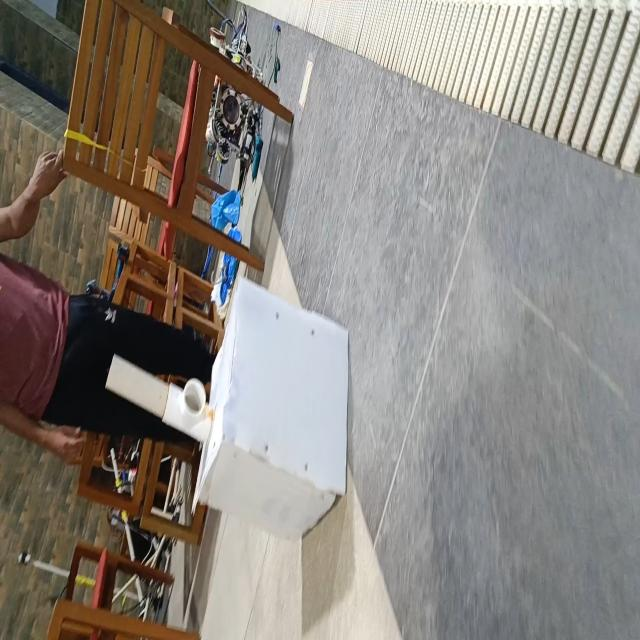Cube: (191, 273, 350, 540)
